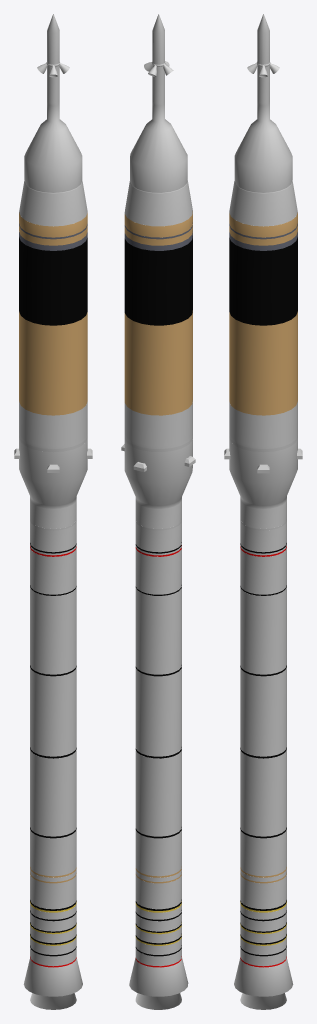
File: ares-i.glb
3 renders of one model, left to right at view 1: azimuth 90°, elevation 25°; view 2: azimuth 150°, elevation 25°; view 3: azimuth 270°, elevation 25°, orthographic.
Parts seen in each view (by area): view 1: pCylinder1; view 2: pCylinder1; view 3: pCylinder1.
Boxes of the visible parts, bbox=[...] form: pCylinder1: bbox=[19, 14, 87, 1009]; pCylinder1: bbox=[124, 14, 192, 1009]; pCylinder1: bbox=[229, 14, 297, 1009].
Size of the model in its own units: 0.6979 by 9.66 by 0.6979.
